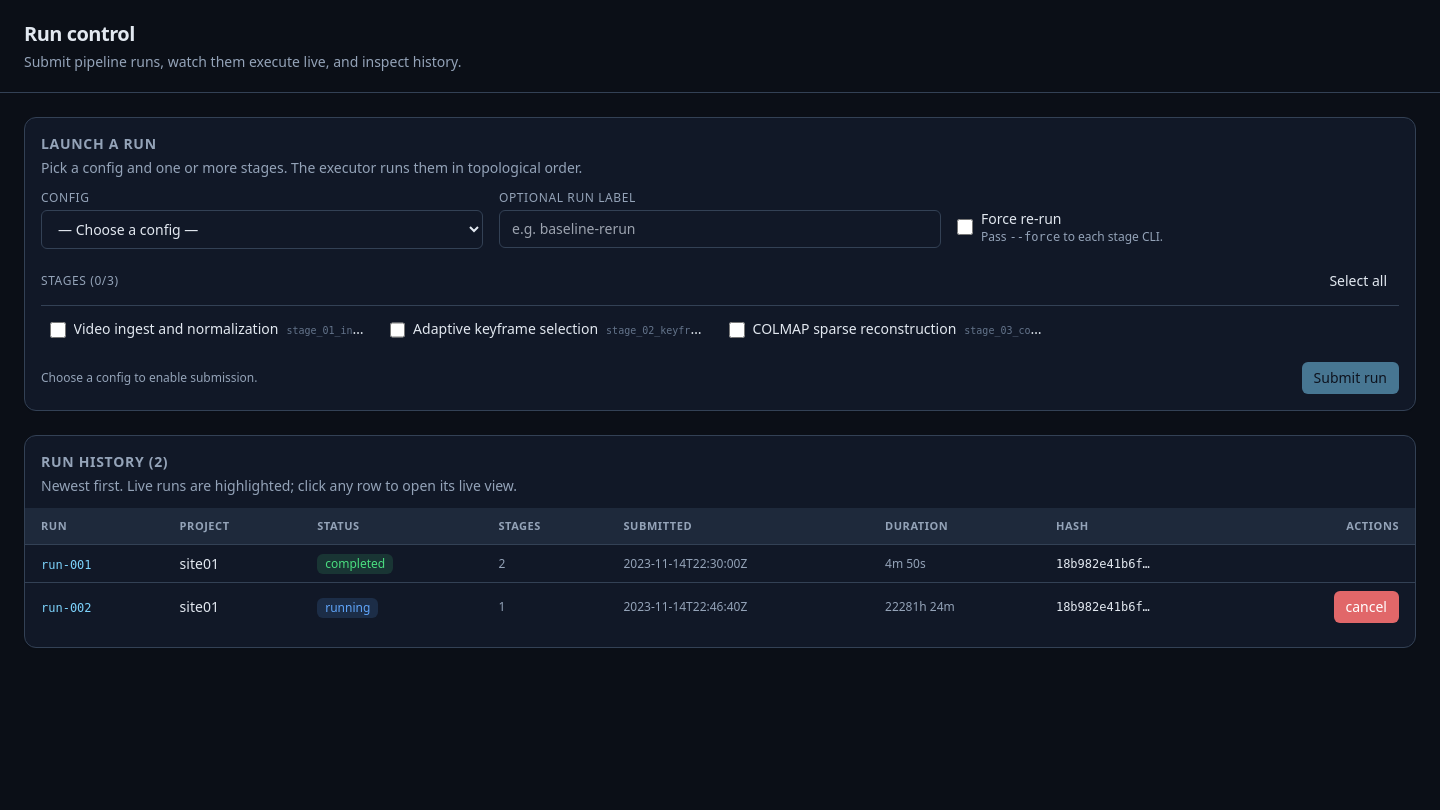
it: <RunsPanel /> › disables submit until a config and a stage are chosen
Check: the button with test id "submit-run" is disabled, box 1302,362 -> 1399,394
Select "site01" in the dropdown with test id "config-select" at (262, 230), box 41,210 -> 483,249
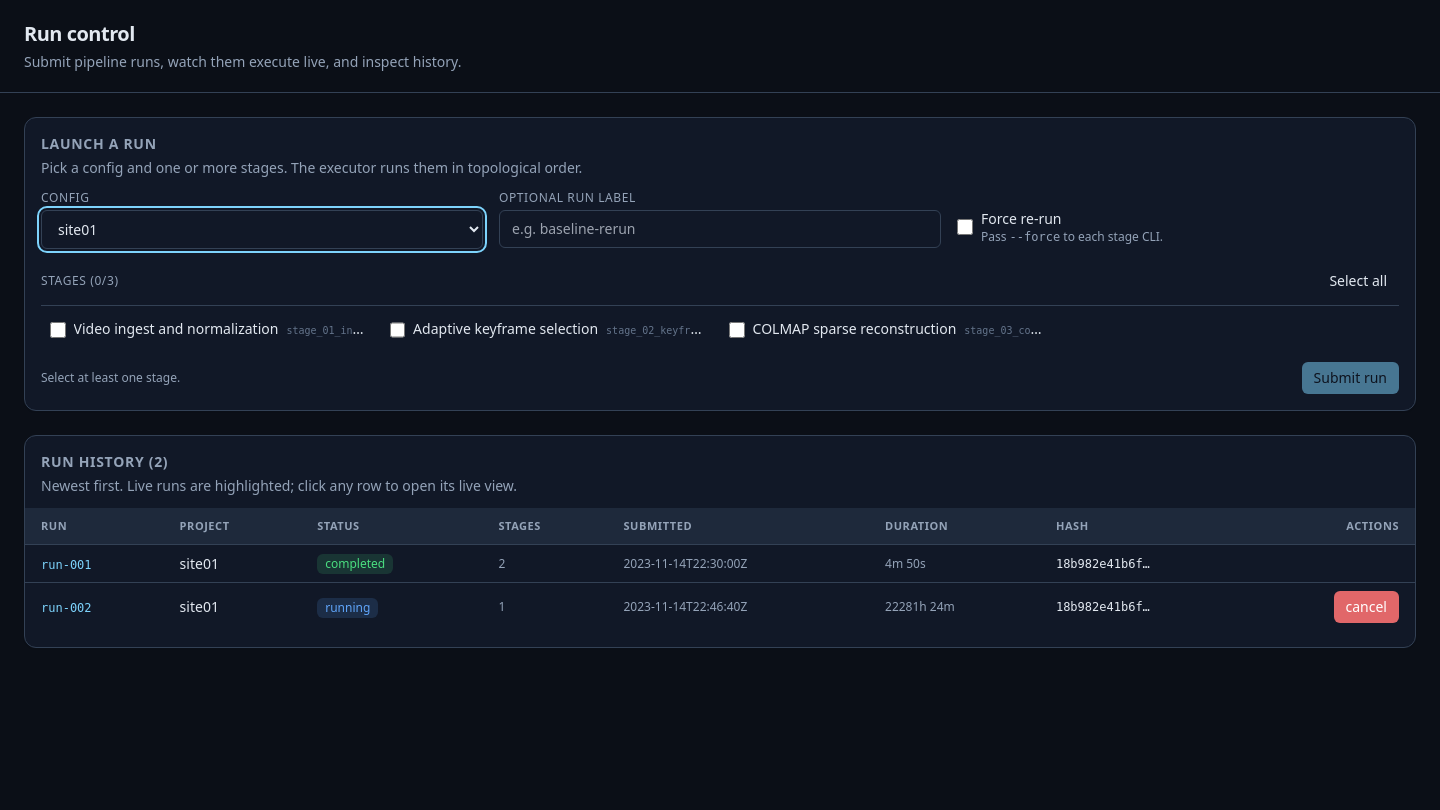
Check: the button with test id "submit-run" is disabled, box 1302,362 -> 1399,394
Click the checkbox with test id "stage-checkbox-stage_01_ingest" at (58, 330), box 50,322 -> 66,338
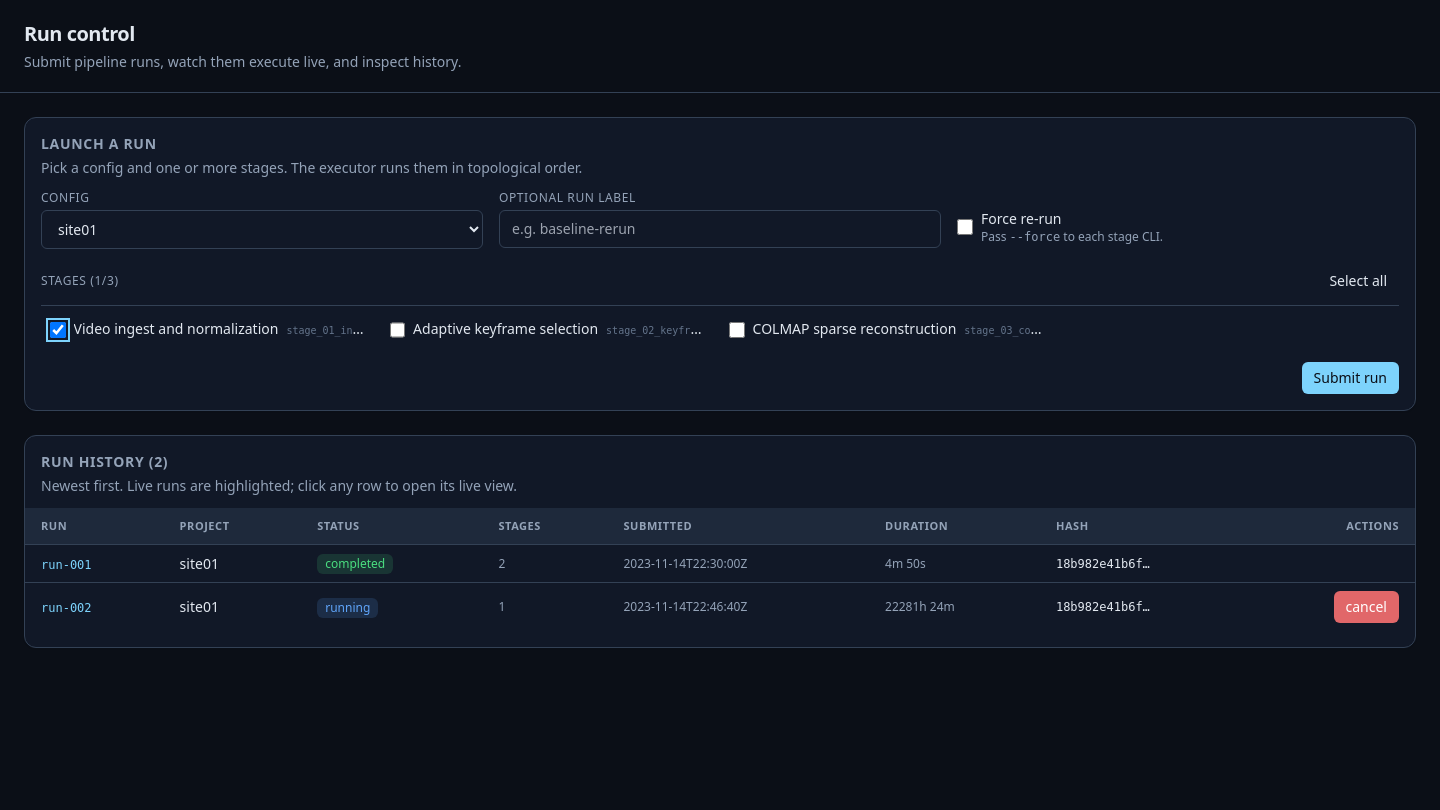
Check: the button with test id "submit-run" is enabled, box 1302,362 -> 1399,394
